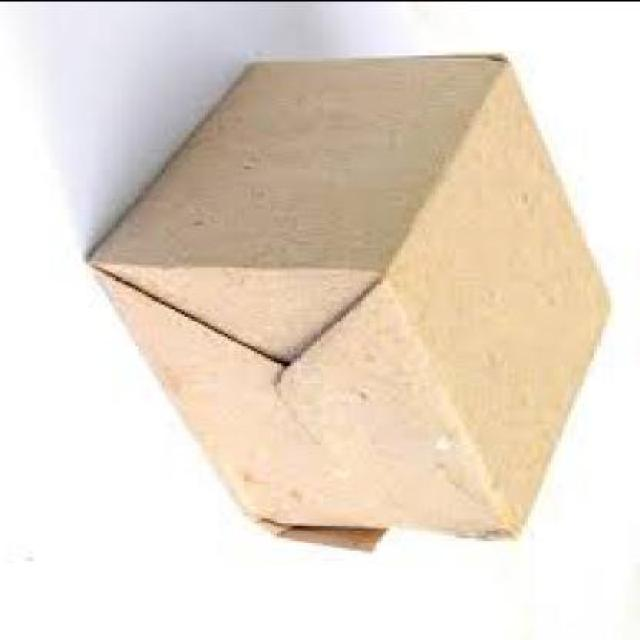CARDBOARD: (96, 54, 613, 554)
